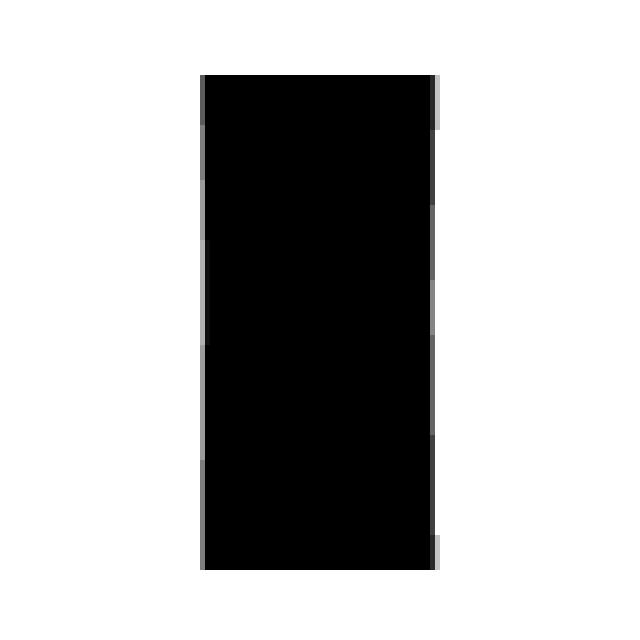I: (190, 65, 440, 570)
